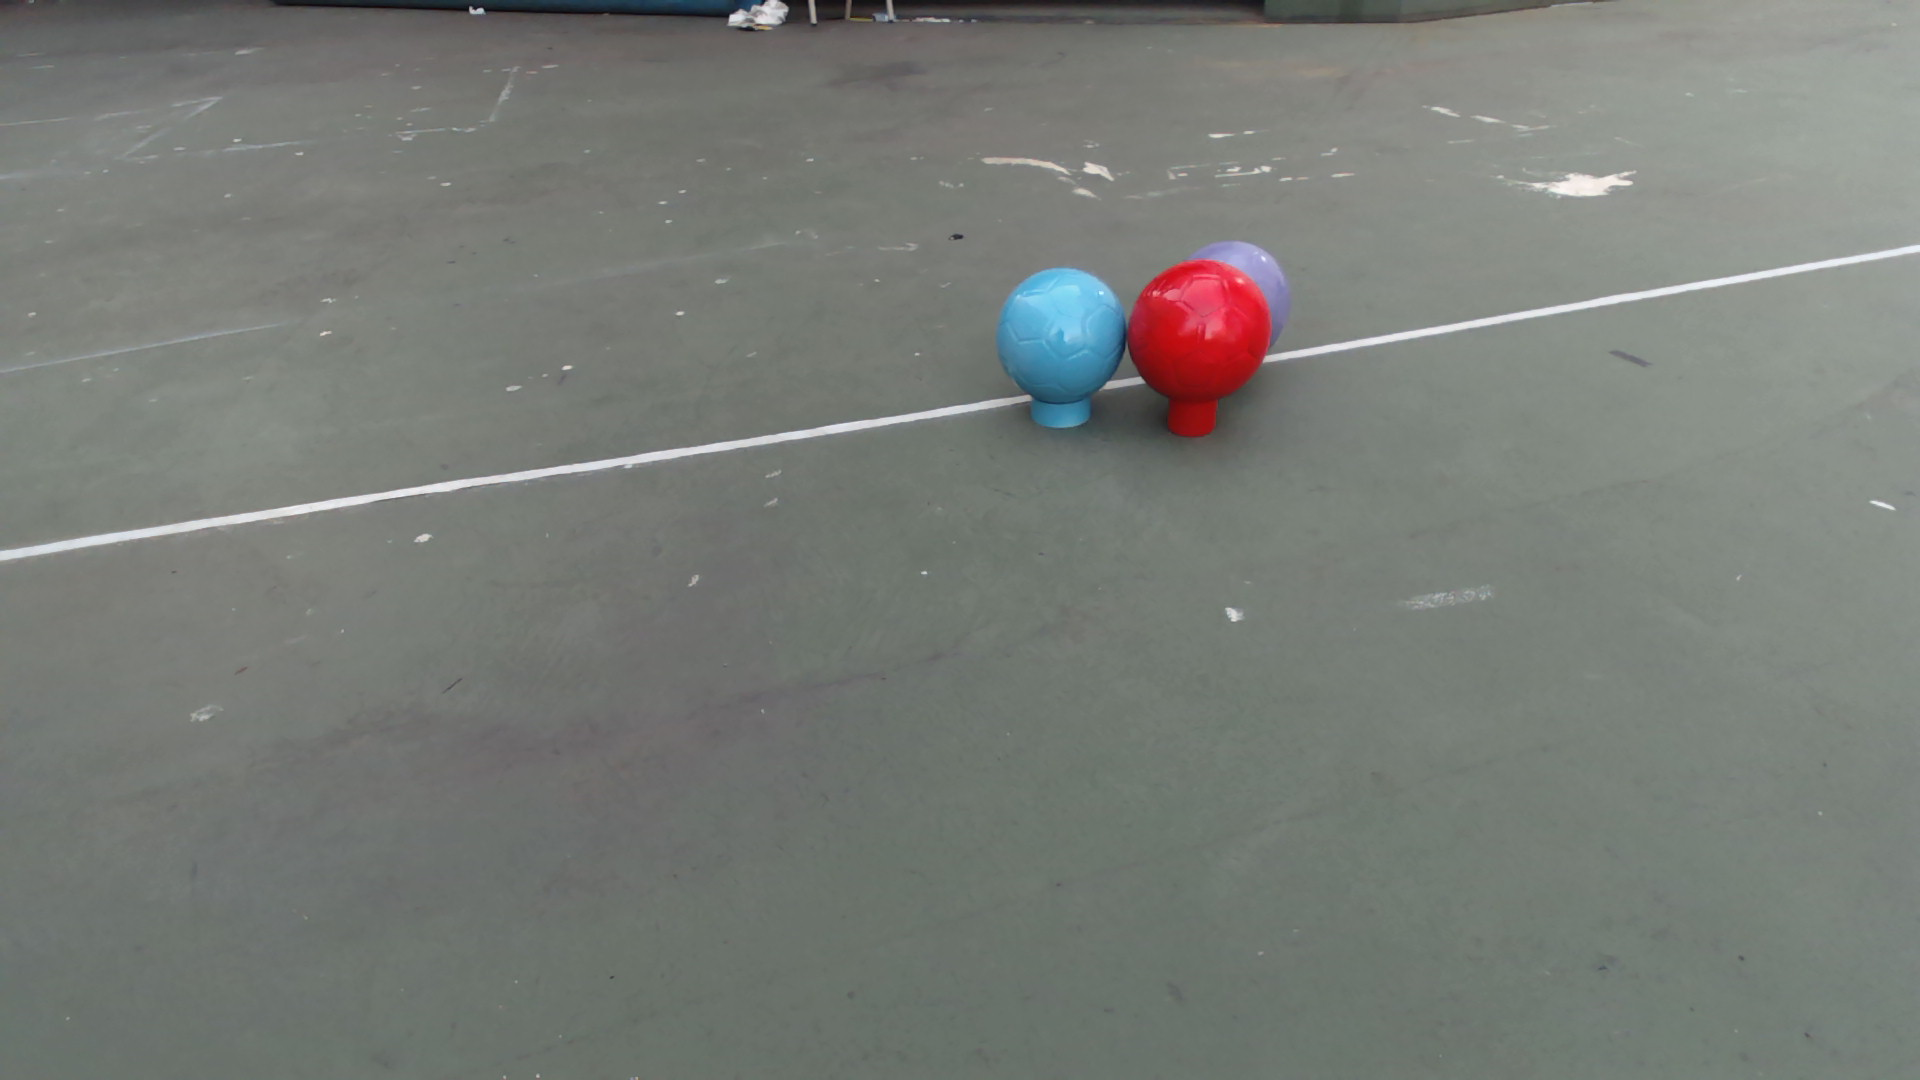Blue ball: (996, 265, 1129, 405)
Purple ball: (1183, 239, 1287, 277)
Red ball: (1125, 258, 1273, 404)
